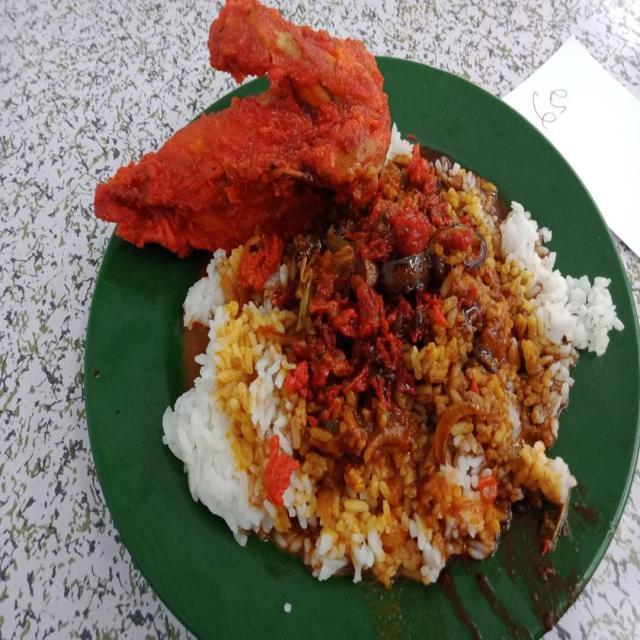Chicken: (91, 4, 395, 253)
Plate: (87, 57, 639, 639)
Rice: (157, 124, 620, 589)
